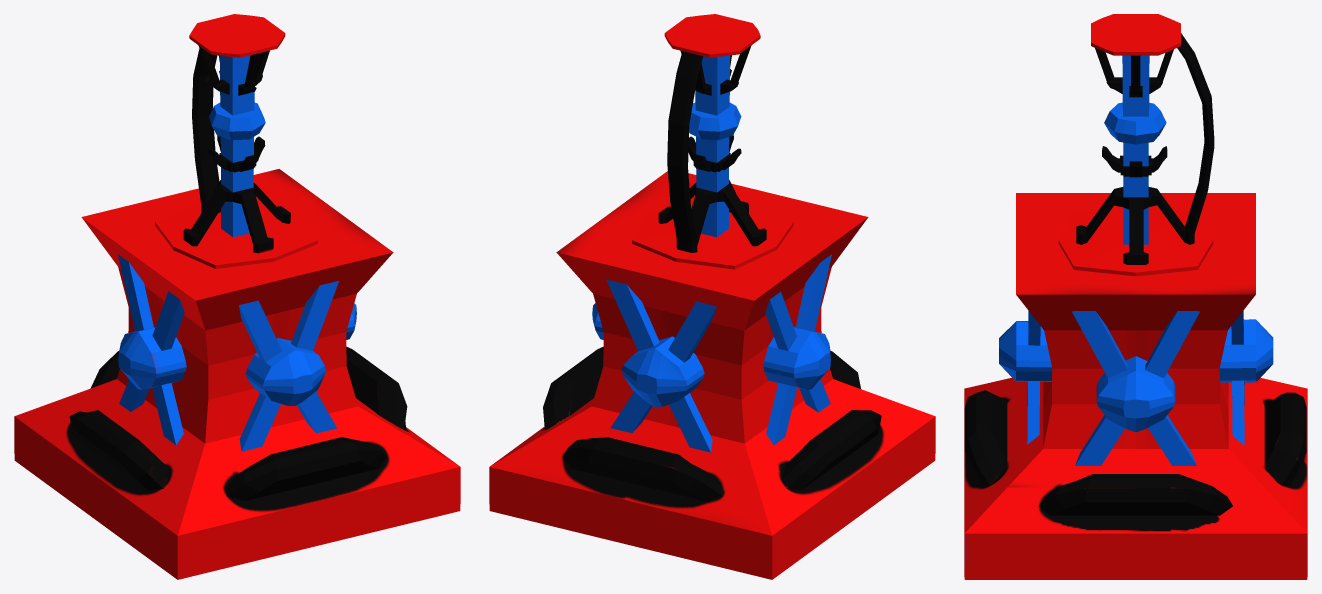
The model's file is better2_turret_laser.fbx.
The picture shows the model from 3 angles, left to right: view 1: azimuth 30°, elevation 25°; view 2: azimuth 150°, elevation 25°; view 3: azimuth 270°, elevation 25°; orthographic projection. The views are drawn at different scales.
Visible parts, largest first — view 1: Base, Head; view 2: Base, Head; view 3: Base, Head.
Boxes of the visible parts, box(x1,y1,x2,y2) form: Base: box(14, 169, 460, 579); Head: box(155, 14, 317, 268); Base: box(489, 171, 935, 579); Head: box(632, 14, 793, 269); Base: box(964, 193, 1307, 579); Head: box(1058, 14, 1214, 276).
Size of the model in its own units: 200 by 305 by 200.
